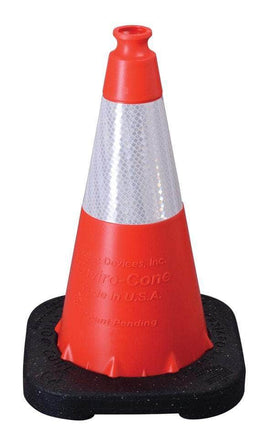Road_cone: (24, 25, 247, 420)
